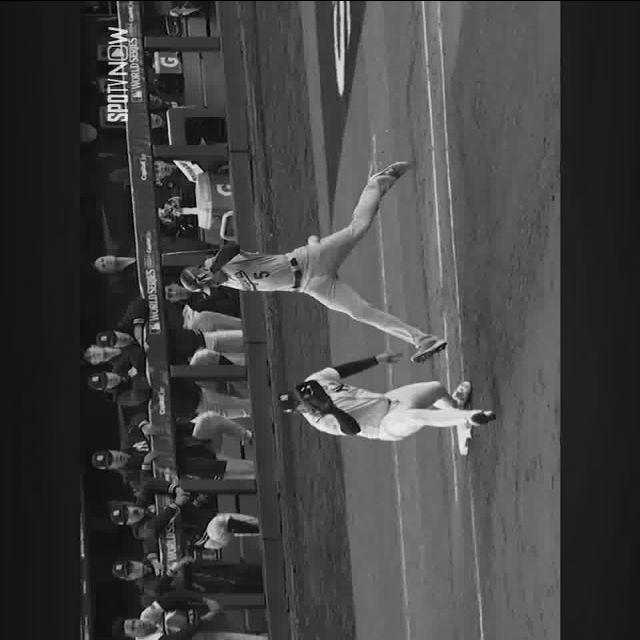base: (457, 424, 472, 455)
baseball: (308, 235, 320, 243)
baseball_glove: (295, 379, 333, 412)
shoe: (369, 160, 413, 184), (412, 338, 447, 362), (469, 408, 492, 424), (456, 380, 470, 404)
